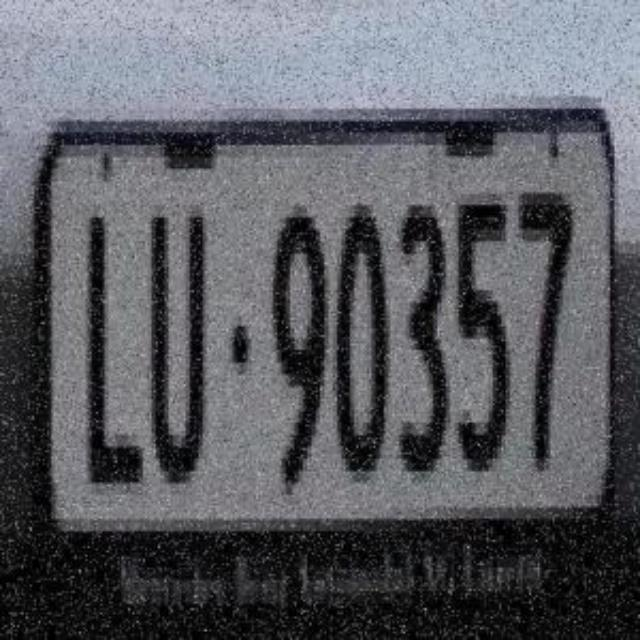License Plate: (32, 66, 626, 626)
